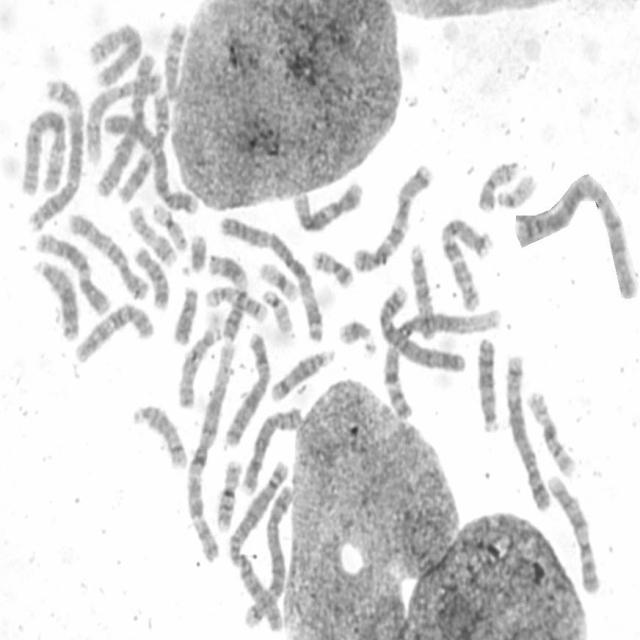A1: (388, 308, 504, 423), (182, 338, 236, 560)
A2: (512, 157, 636, 309), (229, 464, 291, 633)
A3: (216, 213, 326, 343), (24, 76, 86, 235)
B4: (101, 110, 200, 216), (377, 282, 468, 372)
B5: (243, 488, 299, 633), (503, 350, 552, 512)
C10: (65, 208, 150, 302), (71, 300, 156, 366)
C11: (114, 92, 171, 208), (204, 251, 247, 344)
C12: (33, 229, 111, 316), (290, 178, 365, 234)
C6: (98, 52, 160, 199), (18, 106, 70, 201)
C7: (349, 160, 434, 274), (437, 212, 492, 316)
C8: (238, 404, 303, 496), (89, 21, 141, 87)
C9: (84, 74, 168, 160), (545, 470, 602, 596)
D13: (30, 256, 80, 344), (475, 334, 500, 433)
D14: (130, 400, 189, 472), (267, 345, 336, 404)
D15: (175, 313, 223, 410), (407, 241, 436, 340)
E16: (525, 386, 577, 478), (212, 456, 243, 532)
E17: (128, 203, 178, 268), (202, 283, 269, 324)
E18: (132, 244, 170, 311), (163, 23, 188, 104)
F19: (149, 198, 189, 252), (257, 258, 299, 304)
F20: (478, 162, 522, 215), (308, 245, 355, 290)
G21: (336, 315, 377, 356), (185, 231, 208, 275)
G22: (493, 170, 539, 211), (261, 286, 295, 336)
X: (221, 328, 271, 449)
Y: (170, 282, 200, 347)
